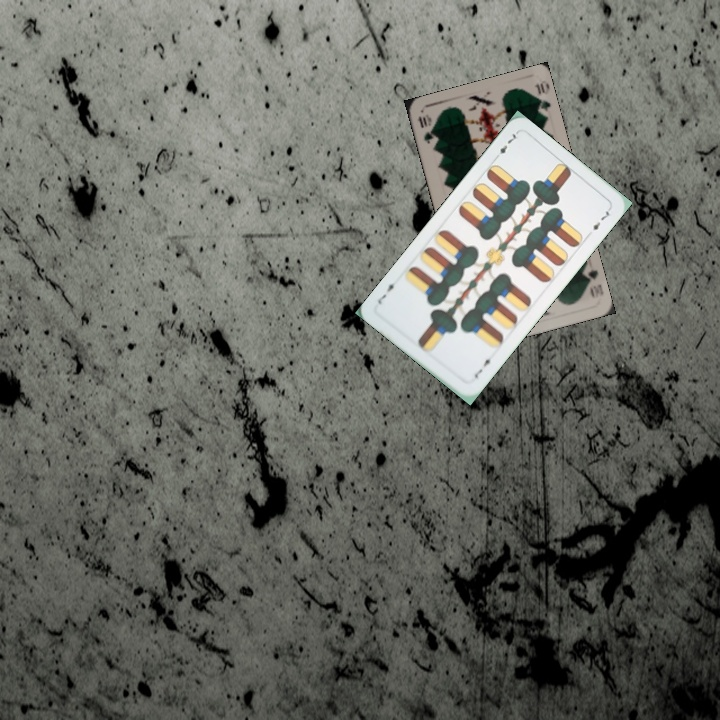E7: (490, 129, 520, 163), (470, 352, 496, 381)
G10: (580, 265, 606, 300), (414, 110, 438, 147)
